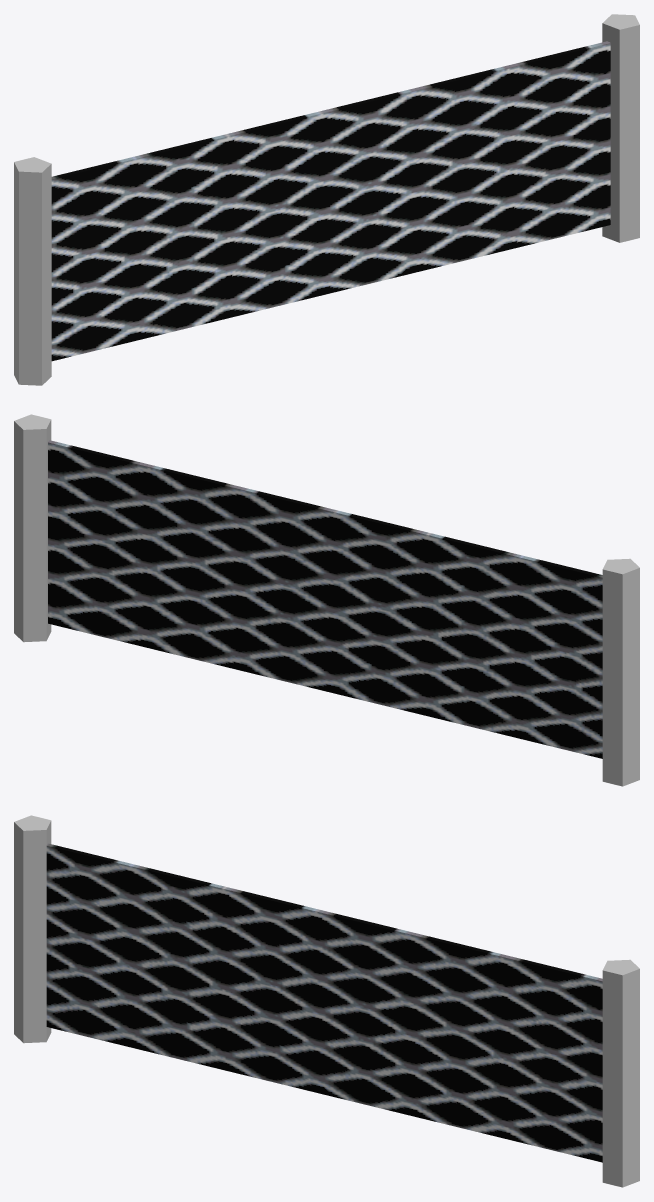
File: CercaDeFerro (2).fbx
3 renders of one model, top to bottom at view 1: azimuth 30°, elevation 25°; view 2: azimuth 150°, elevation 25°; view 3: azimuth 330°, elevation 25°, orthographic.
Parts seen in each view (by area): view 1: cerca de madeira; view 2: cerca de madeira; view 3: cerca de madeira.
Part boxes in pixels (x1,y1,x2,y2): cerca de madeira: (14,14,639,385); cerca de madeira: (14,414,639,786); cerca de madeira: (14,815,639,1187).
Size of the model in its own units: 3620 by 1185 by 200.
